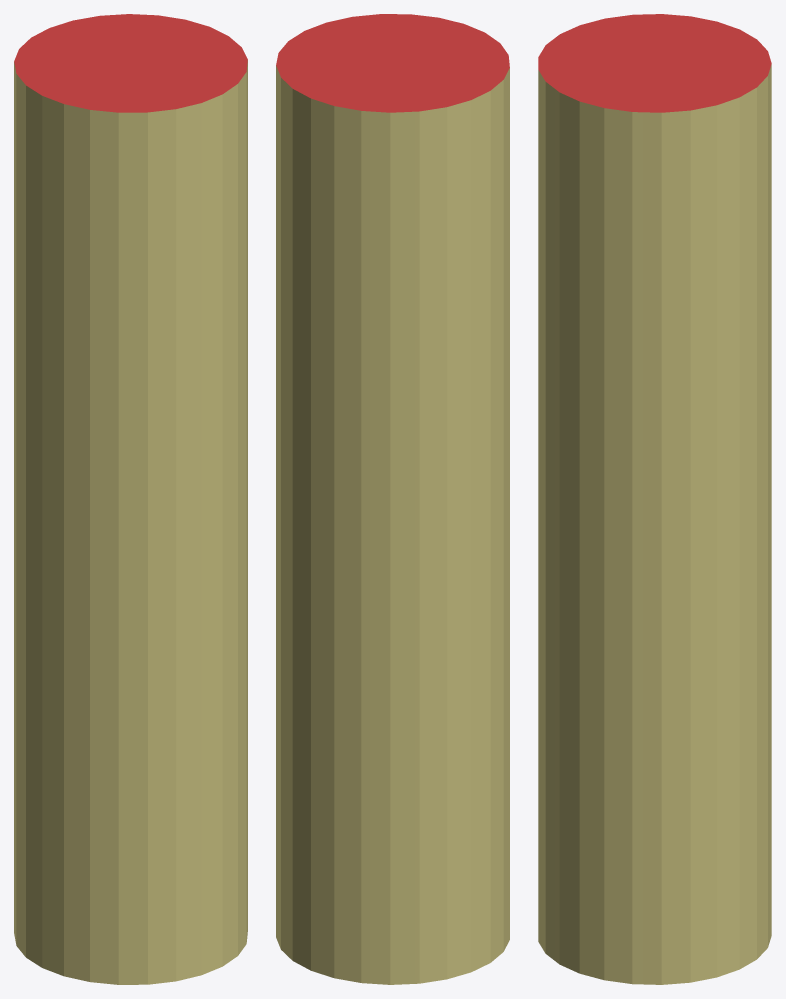
The picture shows the model from 3 angles, left to right: view 1: azimuth 30°, elevation 25°; view 2: azimuth 150°, elevation 25°; view 3: azimuth 270°, elevation 25°; orthographic projection.
Size of the model in its own units: 2.69 by 2.69 by 11.07.
